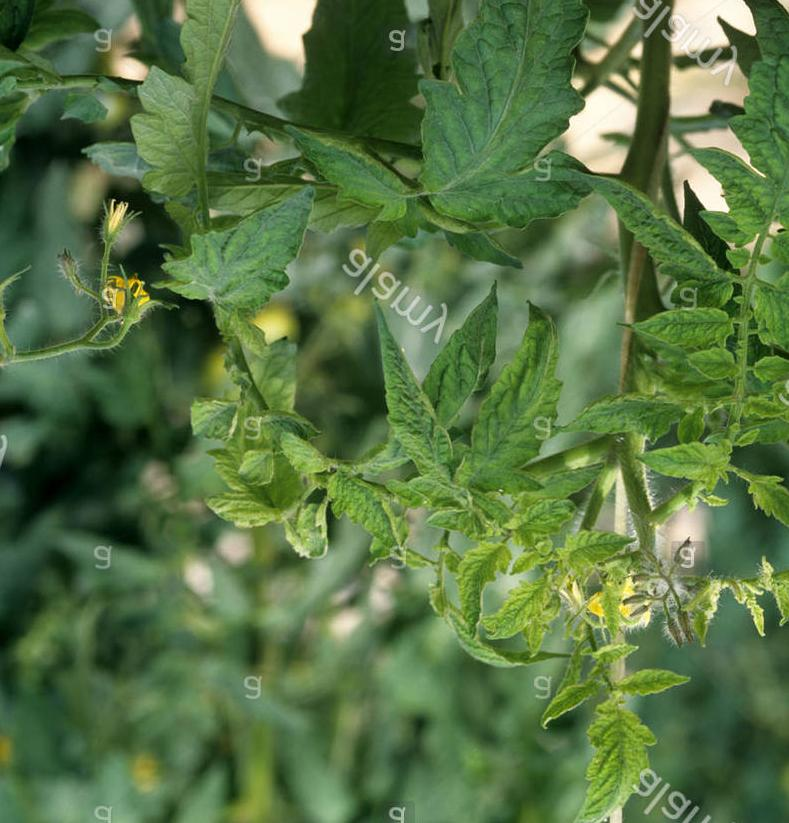Tomato leaf yellow virus: (611, 0, 789, 501), (96, 0, 333, 235), (419, 0, 596, 216), (379, 283, 467, 529)
